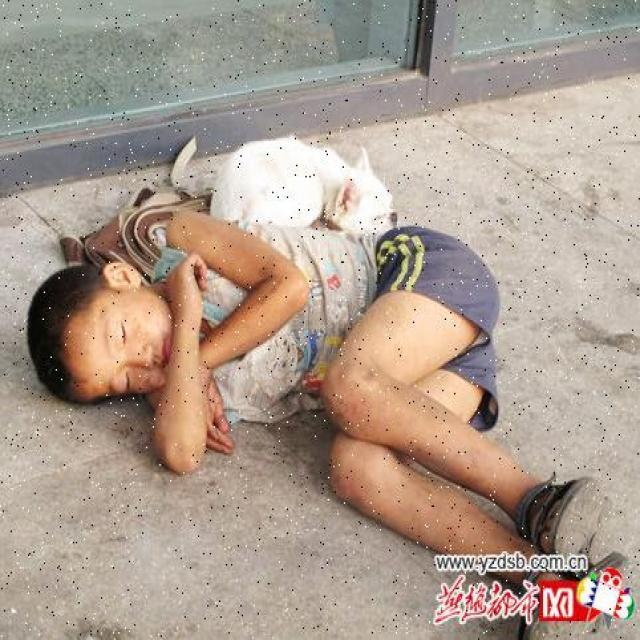fall: (23, 208, 592, 628)
